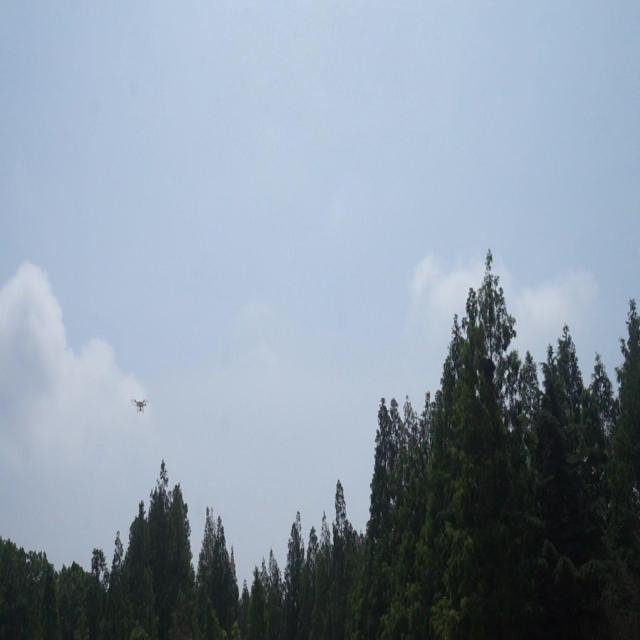drone: (129, 394, 150, 415)
